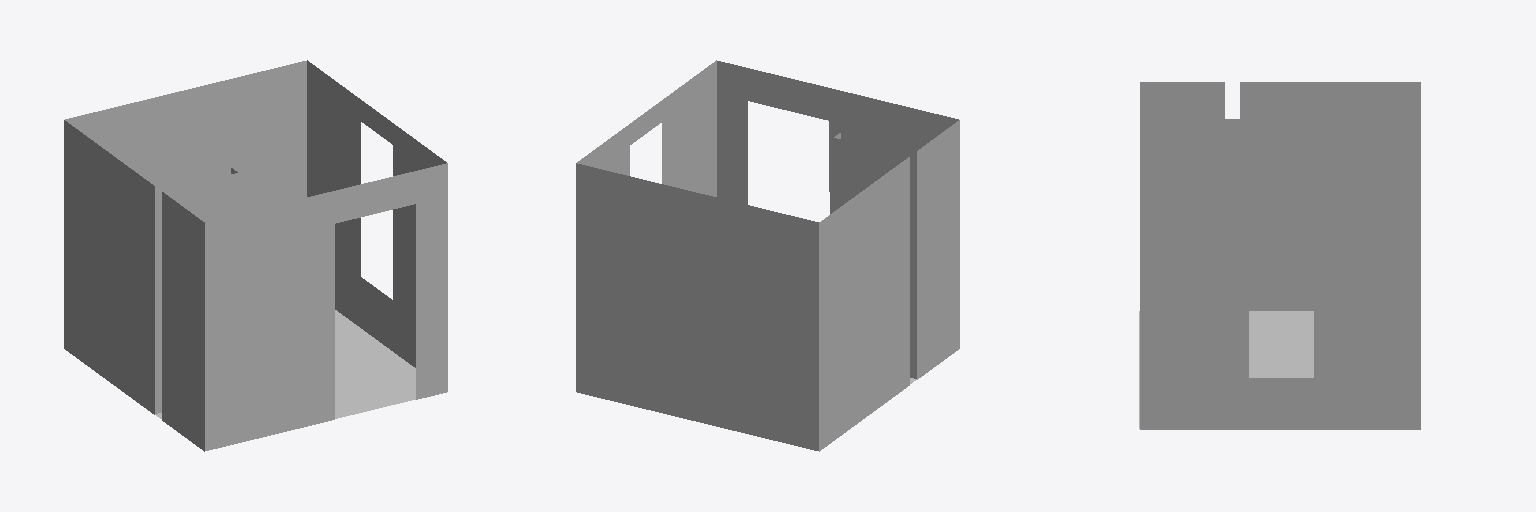
Rendered from baño_acabado.obj.
The picture shows the model from 3 angles: view 1: azimuth 30°, elevation 25°; view 2: azimuth 150°, elevation 25°; view 3: azimuth 270°, elevation 25°; orthographic projection.
Visible parts, largest first — view 1: Baño; view 2: Baño; view 3: Baño.
Part boxes in pixels (x1,y1,x2,y2): Baño: (64, 60, 447, 451); Baño: (576, 60, 959, 451); Baño: (1139, 82, 1420, 429).
Size of the model in its own units: 5 by 4.5 by 5.